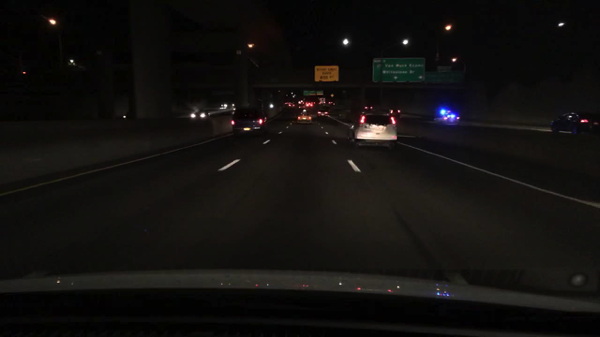car: (348, 112, 397, 148), (550, 113, 599, 135), (229, 107, 267, 134), (296, 110, 312, 124), (442, 113, 459, 124), (190, 111, 211, 118), (388, 108, 401, 118), (316, 109, 329, 118), (220, 102, 235, 108), (364, 103, 374, 111), (298, 103, 305, 109), (306, 102, 313, 108), (328, 101, 334, 106), (287, 103, 291, 108), (291, 103, 295, 107)
traffic light: (436, 108, 447, 117)
traffic sign: (373, 59, 424, 83), (423, 73, 462, 83), (314, 66, 339, 81), (436, 66, 452, 73), (303, 91, 315, 96), (316, 91, 323, 96), (236, 51, 242, 55), (330, 93, 333, 97)
truck: (319, 98, 325, 104)
